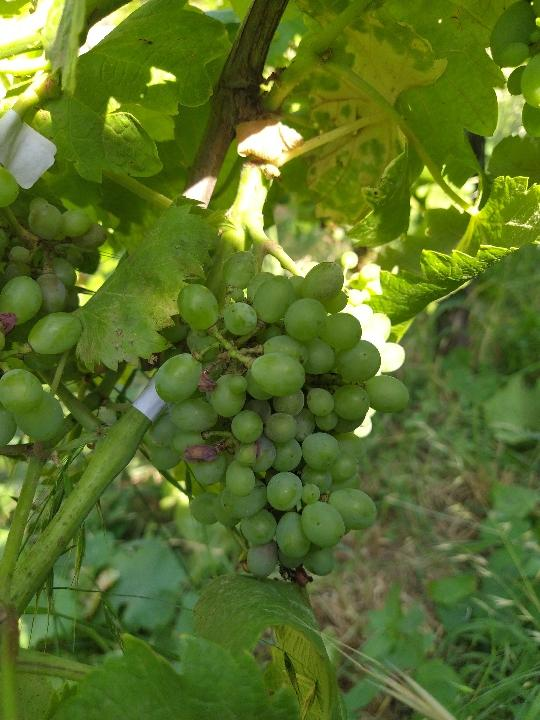grape: (149, 248, 413, 585)
